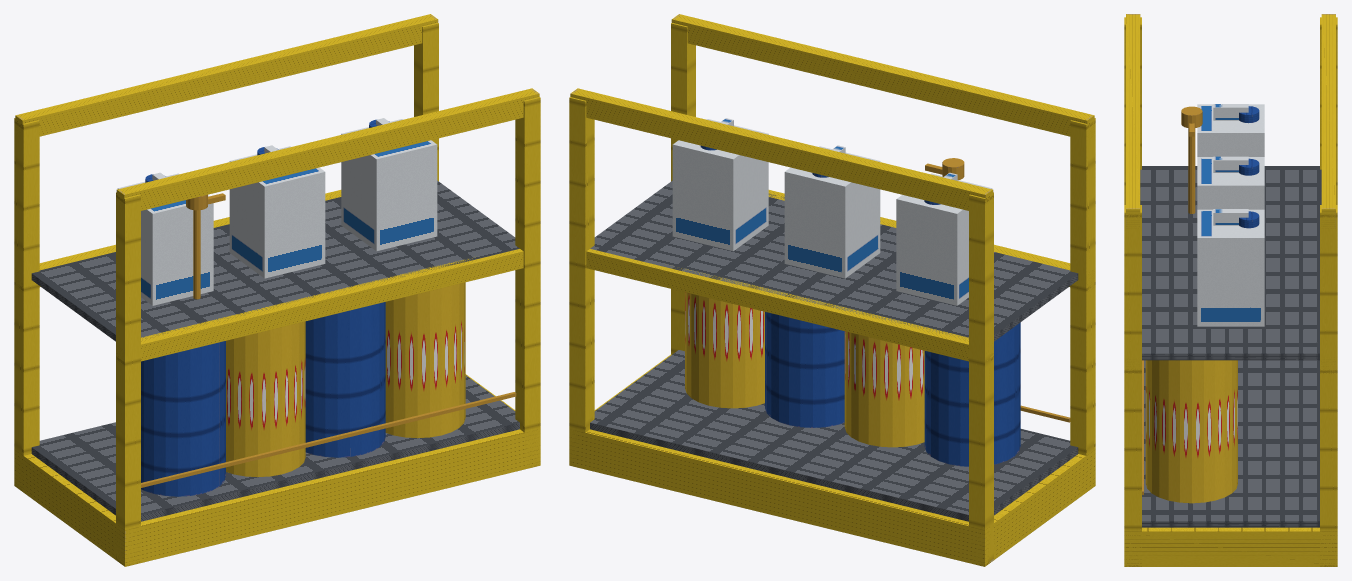
The model's file is prop_chemical_drum_rack.glb.
3 views of the same model, side by side, from view 1: azimuth 30°, elevation 25°; view 2: azimuth 150°, elevation 25°; view 3: azimuth 270°, elevation 25° (orthographic). The views are drawn at different scales.
Visible parts, largest first — view 1: Prop_Chemical_Drum_Rack; view 2: Prop_Chemical_Drum_Rack; view 3: Prop_Chemical_Drum_Rack.
Part boxes in pixels (x1,y1,x2,y2): Prop_Chemical_Drum_Rack: (14, 14, 540, 566); Prop_Chemical_Drum_Rack: (569, 14, 1095, 566); Prop_Chemical_Drum_Rack: (1124, 14, 1337, 566).
Size of the model in its own units: 2.6 by 2.22 by 1.2.
1 material, 1 textured.
